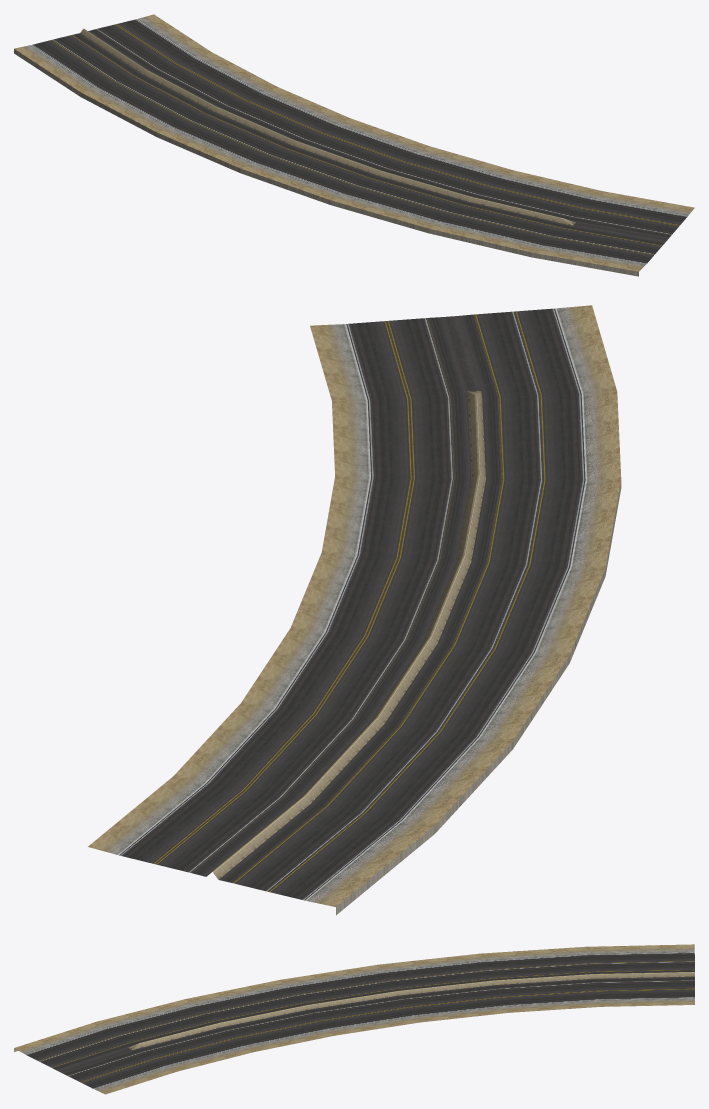
The model's file is vegaseroad144.obj.
The picture shows the model from 3 angles, top to bottom: view 1: azimuth 30°, elevation 25°; view 2: azimuth 150°, elevation 25°; view 3: azimuth 270°, elevation 25°; orthographic projection. The views are drawn at different scales.
Parts seen in each view (by area): view 1: VegasEroad144; view 2: VegasEroad144; view 3: VegasEroad144.
Part boxes in pixels (<box>): VegasEroad144: <box>14,14,694,276</box>; VegasEroad144: <box>88,305,621,915</box>; VegasEroad144: <box>14,944,694,1094</box>.
Size of the model in its own units: 99.47 by 2.11 by 191.
4 materials, 4 textured.
